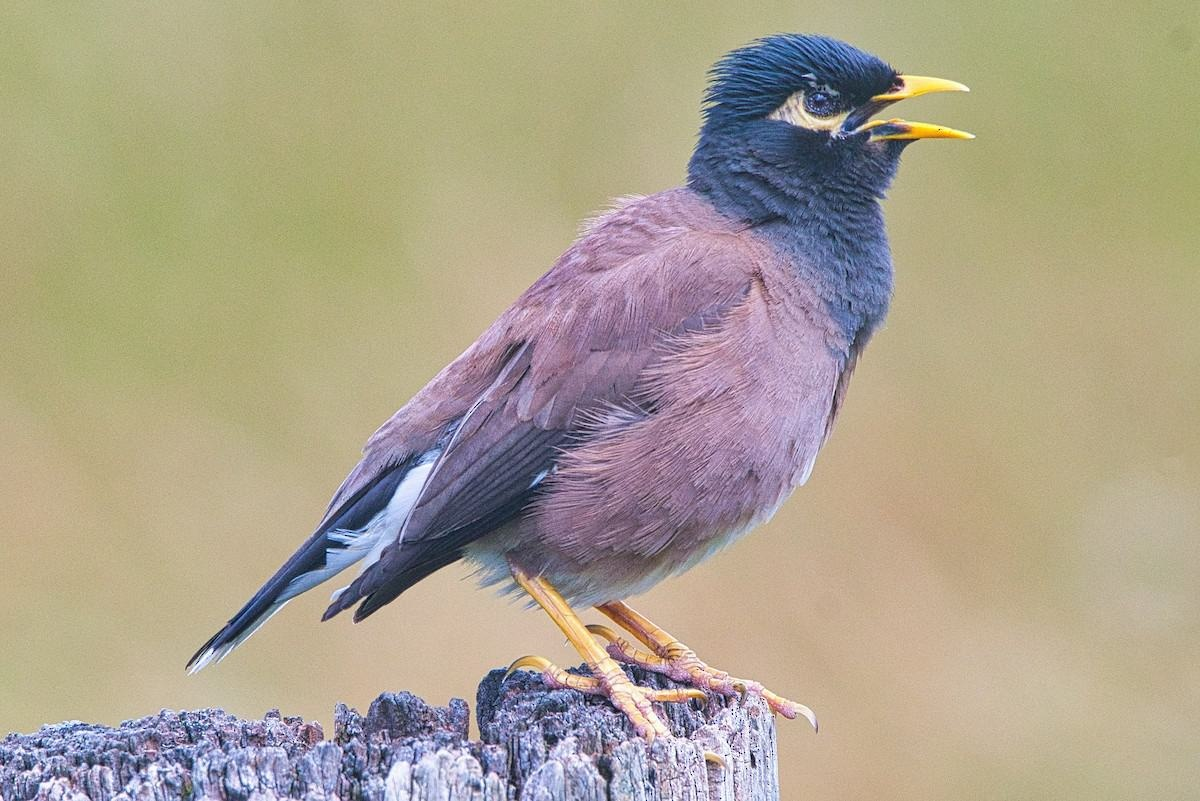myna: (285, 43, 969, 694)
